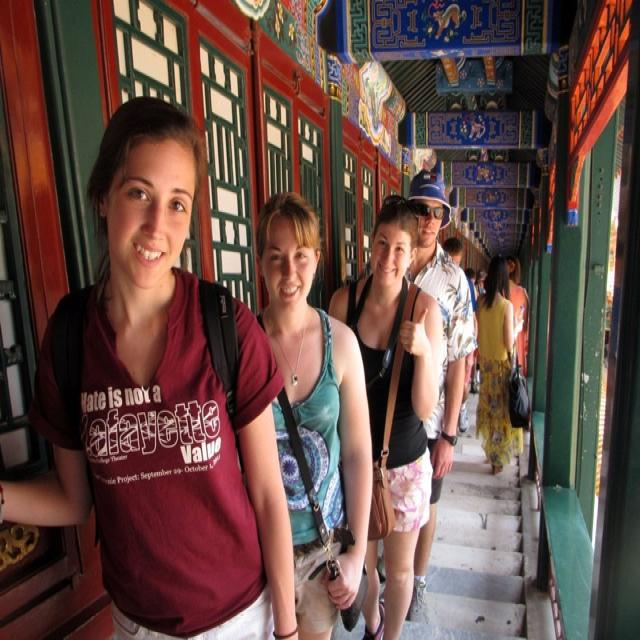body: (0, 84, 309, 639), (249, 186, 380, 640), (354, 165, 480, 628), (327, 196, 445, 640), (473, 252, 532, 476), (440, 223, 489, 437), (499, 250, 532, 386)
